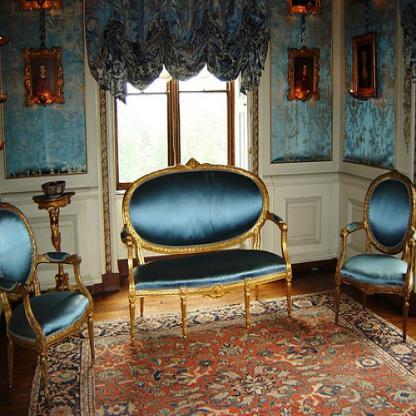chair: (0, 197, 95, 384), (334, 167, 415, 338)
sofa: (119, 156, 293, 342)
